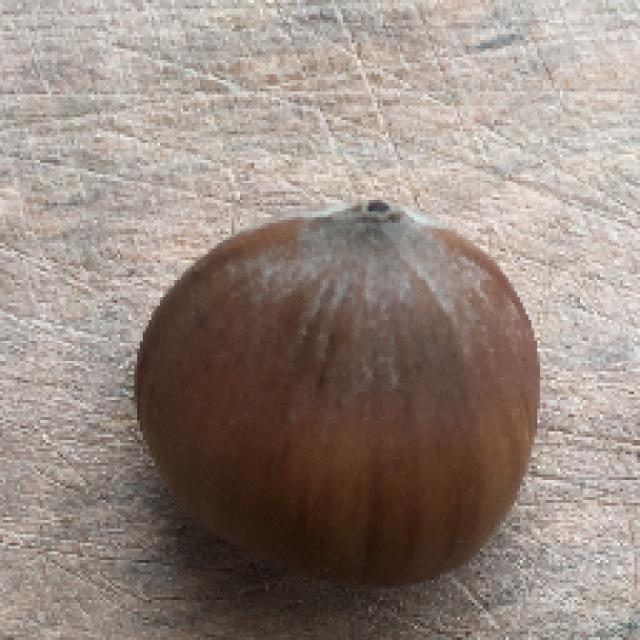damagedHazelnut: (124, 198, 552, 598)
